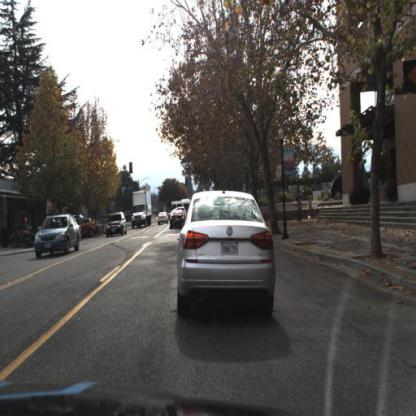car: (169, 187, 278, 322), (33, 212, 84, 261), (34, 210, 83, 261), (104, 212, 128, 235), (82, 217, 97, 240), (170, 210, 186, 231), (159, 213, 170, 226)
pedestrian: (295, 197, 303, 223)
trafficLight-Red: (184, 176, 189, 188)
truck: (131, 192, 154, 228), (171, 201, 192, 217)
